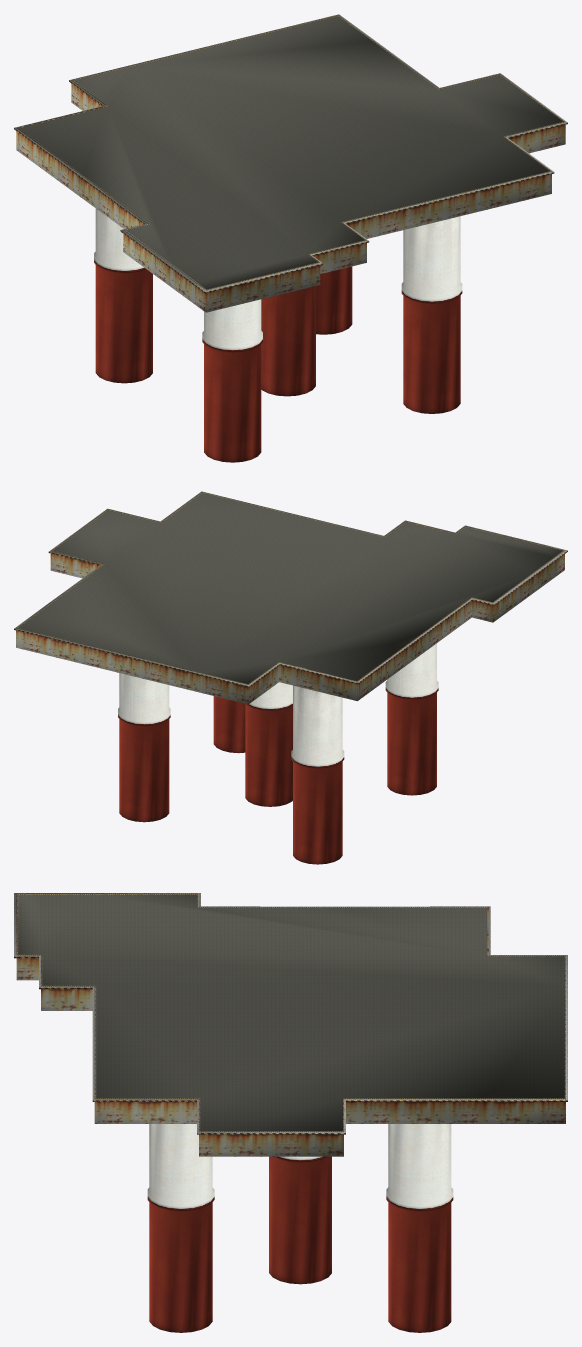
Rendered from platform_lod1.obj.
3 renders of one model, top to bottom at view 1: azimuth 30°, elevation 25°; view 2: azimuth 150°, elevation 25°; view 3: azimuth 270°, elevation 25°, orthographic. The views are drawn at different scales.
Parts seen in each view (by area): view 1: platform_lod1.obj; view 2: platform_lod1.obj; view 3: platform_lod1.obj.
Part boxes in pixels (x1,y1,x2,y2): platform_lod1.obj: [14, 14, 567, 462]; platform_lod1.obj: [14, 491, 567, 864]; platform_lod1.obj: [14, 893, 567, 1332].
Bounding box in the file's own units: 145 × 74.47 × 142.
3 materials, 3 textured.
